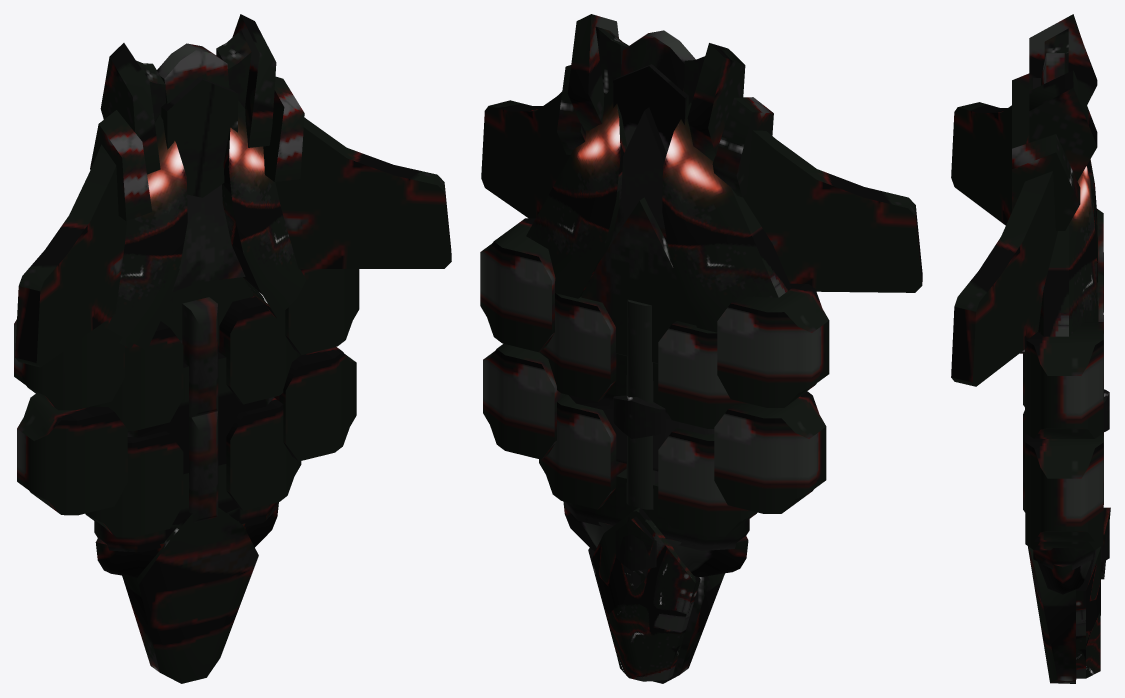
File: Chukk-Supply.fbx
3 views of the same model, side by side, from view 1: azimuth 30°, elevation 25°; view 2: azimuth 150°, elevation 25°; view 3: azimuth 270°, elevation 25° (orthographic). The views are drawn at different scales.
Parts seen in each view (by area): view 1: ship20g.051; view 2: ship20g.051; view 3: ship20g.051.
Boxes of the visible parts, x1,y1,x2,y2 form: ship20g.051: (14, 14, 451, 683); ship20g.051: (480, 14, 922, 683); ship20g.051: (951, 14, 1110, 683).
Size of the model in its own units: 9741 by 13741 by 3132.
Materials: 1 (1 with a texture image).
